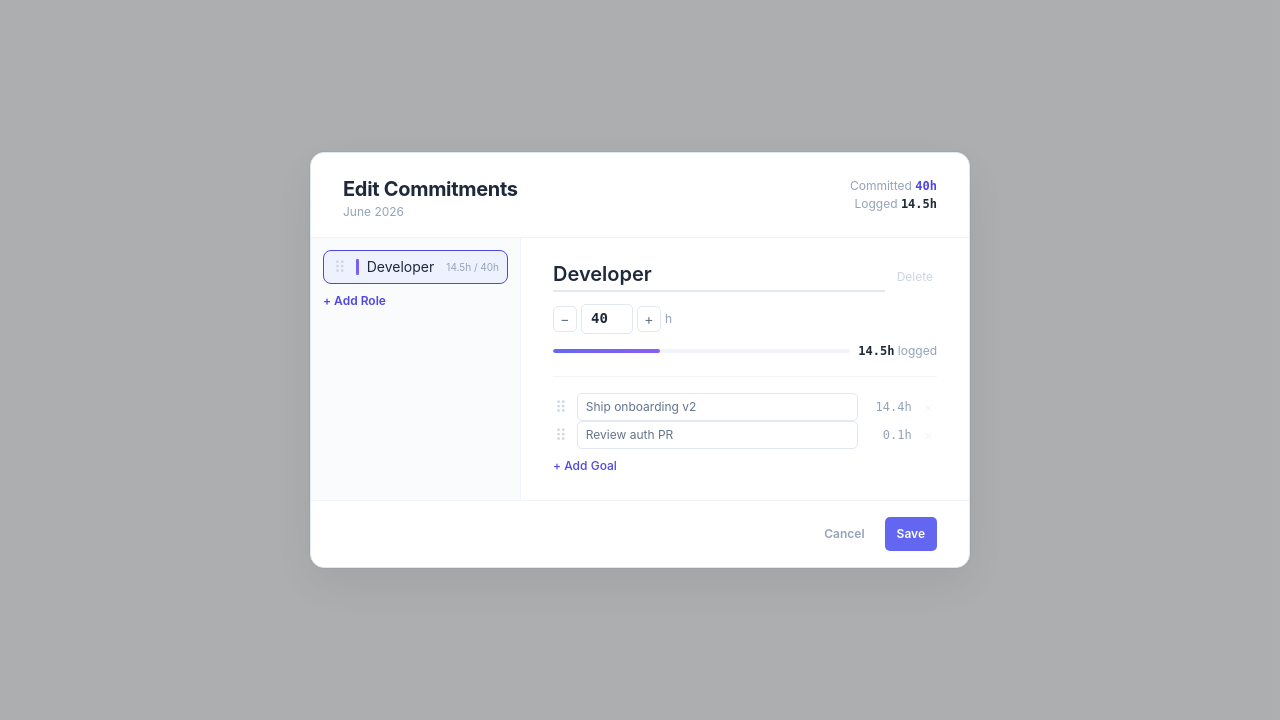
CommitmentsModal — allocation stepper › decrements by 5 on -
What coordinates should you click on to do the following:
click the button with test id "alloc-dec"
I would click on:
 (565, 319)
Its box is [553,306,577,332].
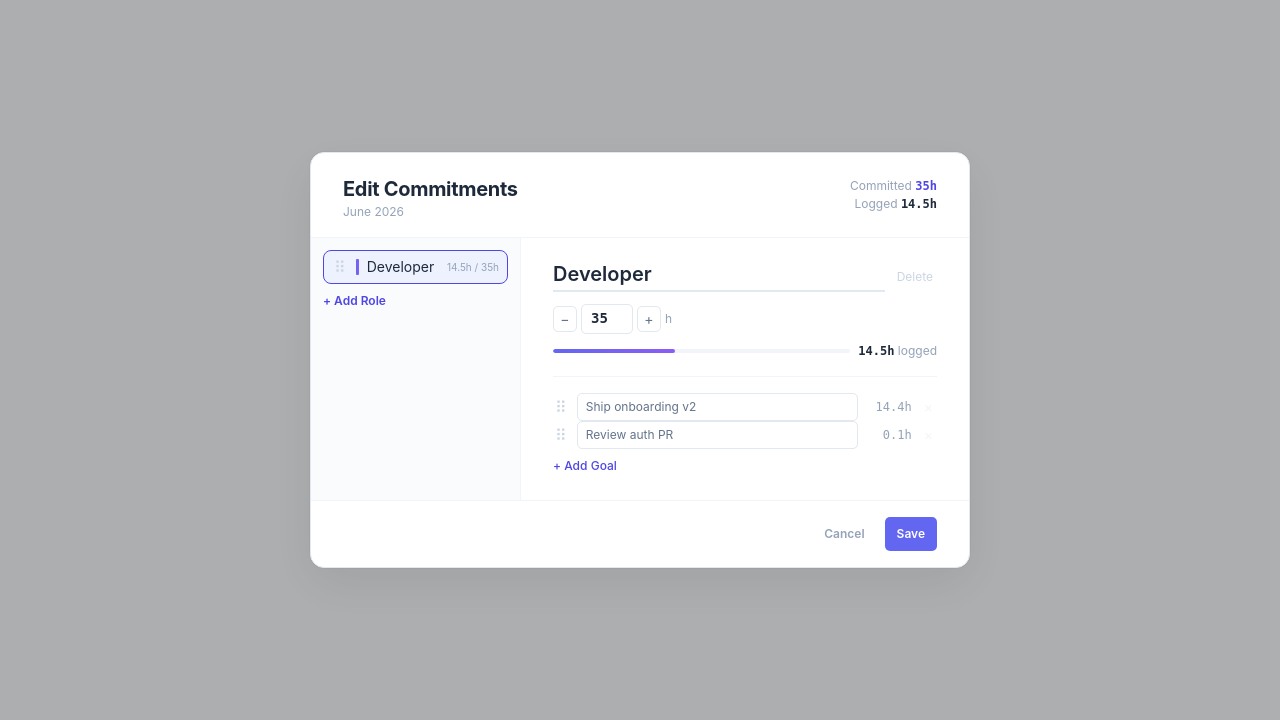
Expected: the number field with test id "alloc" holds "35", [581,304,633,334]
